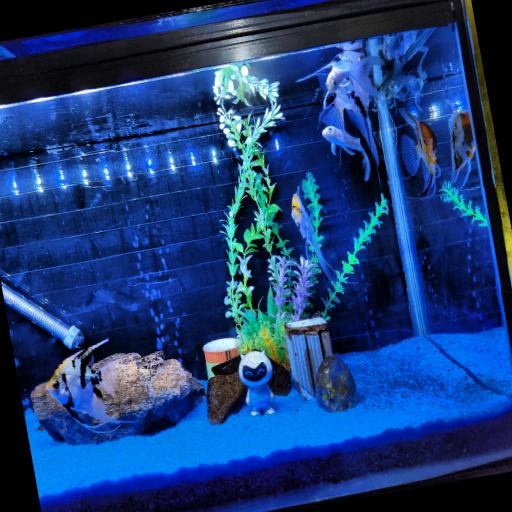Fish: (46, 340, 121, 433), (318, 81, 378, 164), (297, 51, 384, 108), (290, 187, 333, 281), (398, 108, 440, 196), (322, 126, 369, 181), (387, 47, 427, 110), (447, 101, 474, 188)
